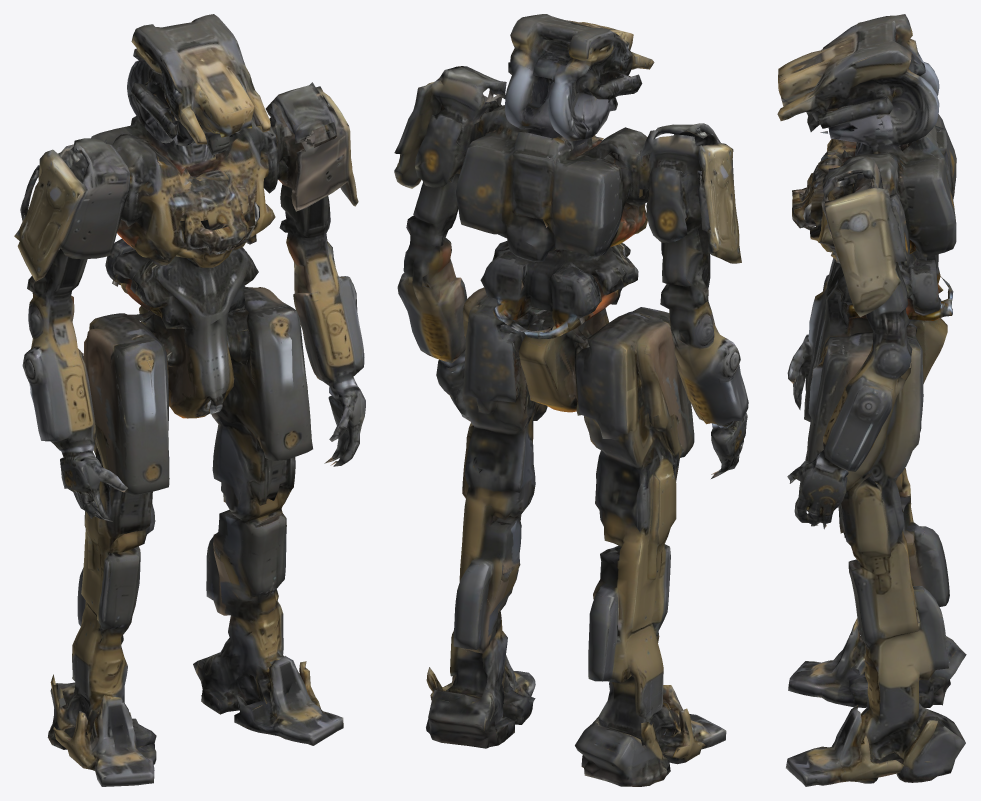
The model's file is robot_1.glb.
3 renders of one model, left to right at view 1: azimuth 30°, elevation 25°; view 2: azimuth 150°, elevation 25°; view 3: azimuth 270°, elevation 25°, orthographic. The views are drawn at different scales.
Visible parts, largest first — view 1: Object_4; view 2: Object_4; view 3: Object_4.
Part boxes in pixels (<box>): Object_4: <box>14,14,365,786</box>; Object_4: <box>394,14,748,786</box>; Object_4: <box>777,14,966,786</box>.
Bounding box in the file's own units: 0.9624 × 2 × 0.4899.
Materials: 1 (1 with a texture image).
